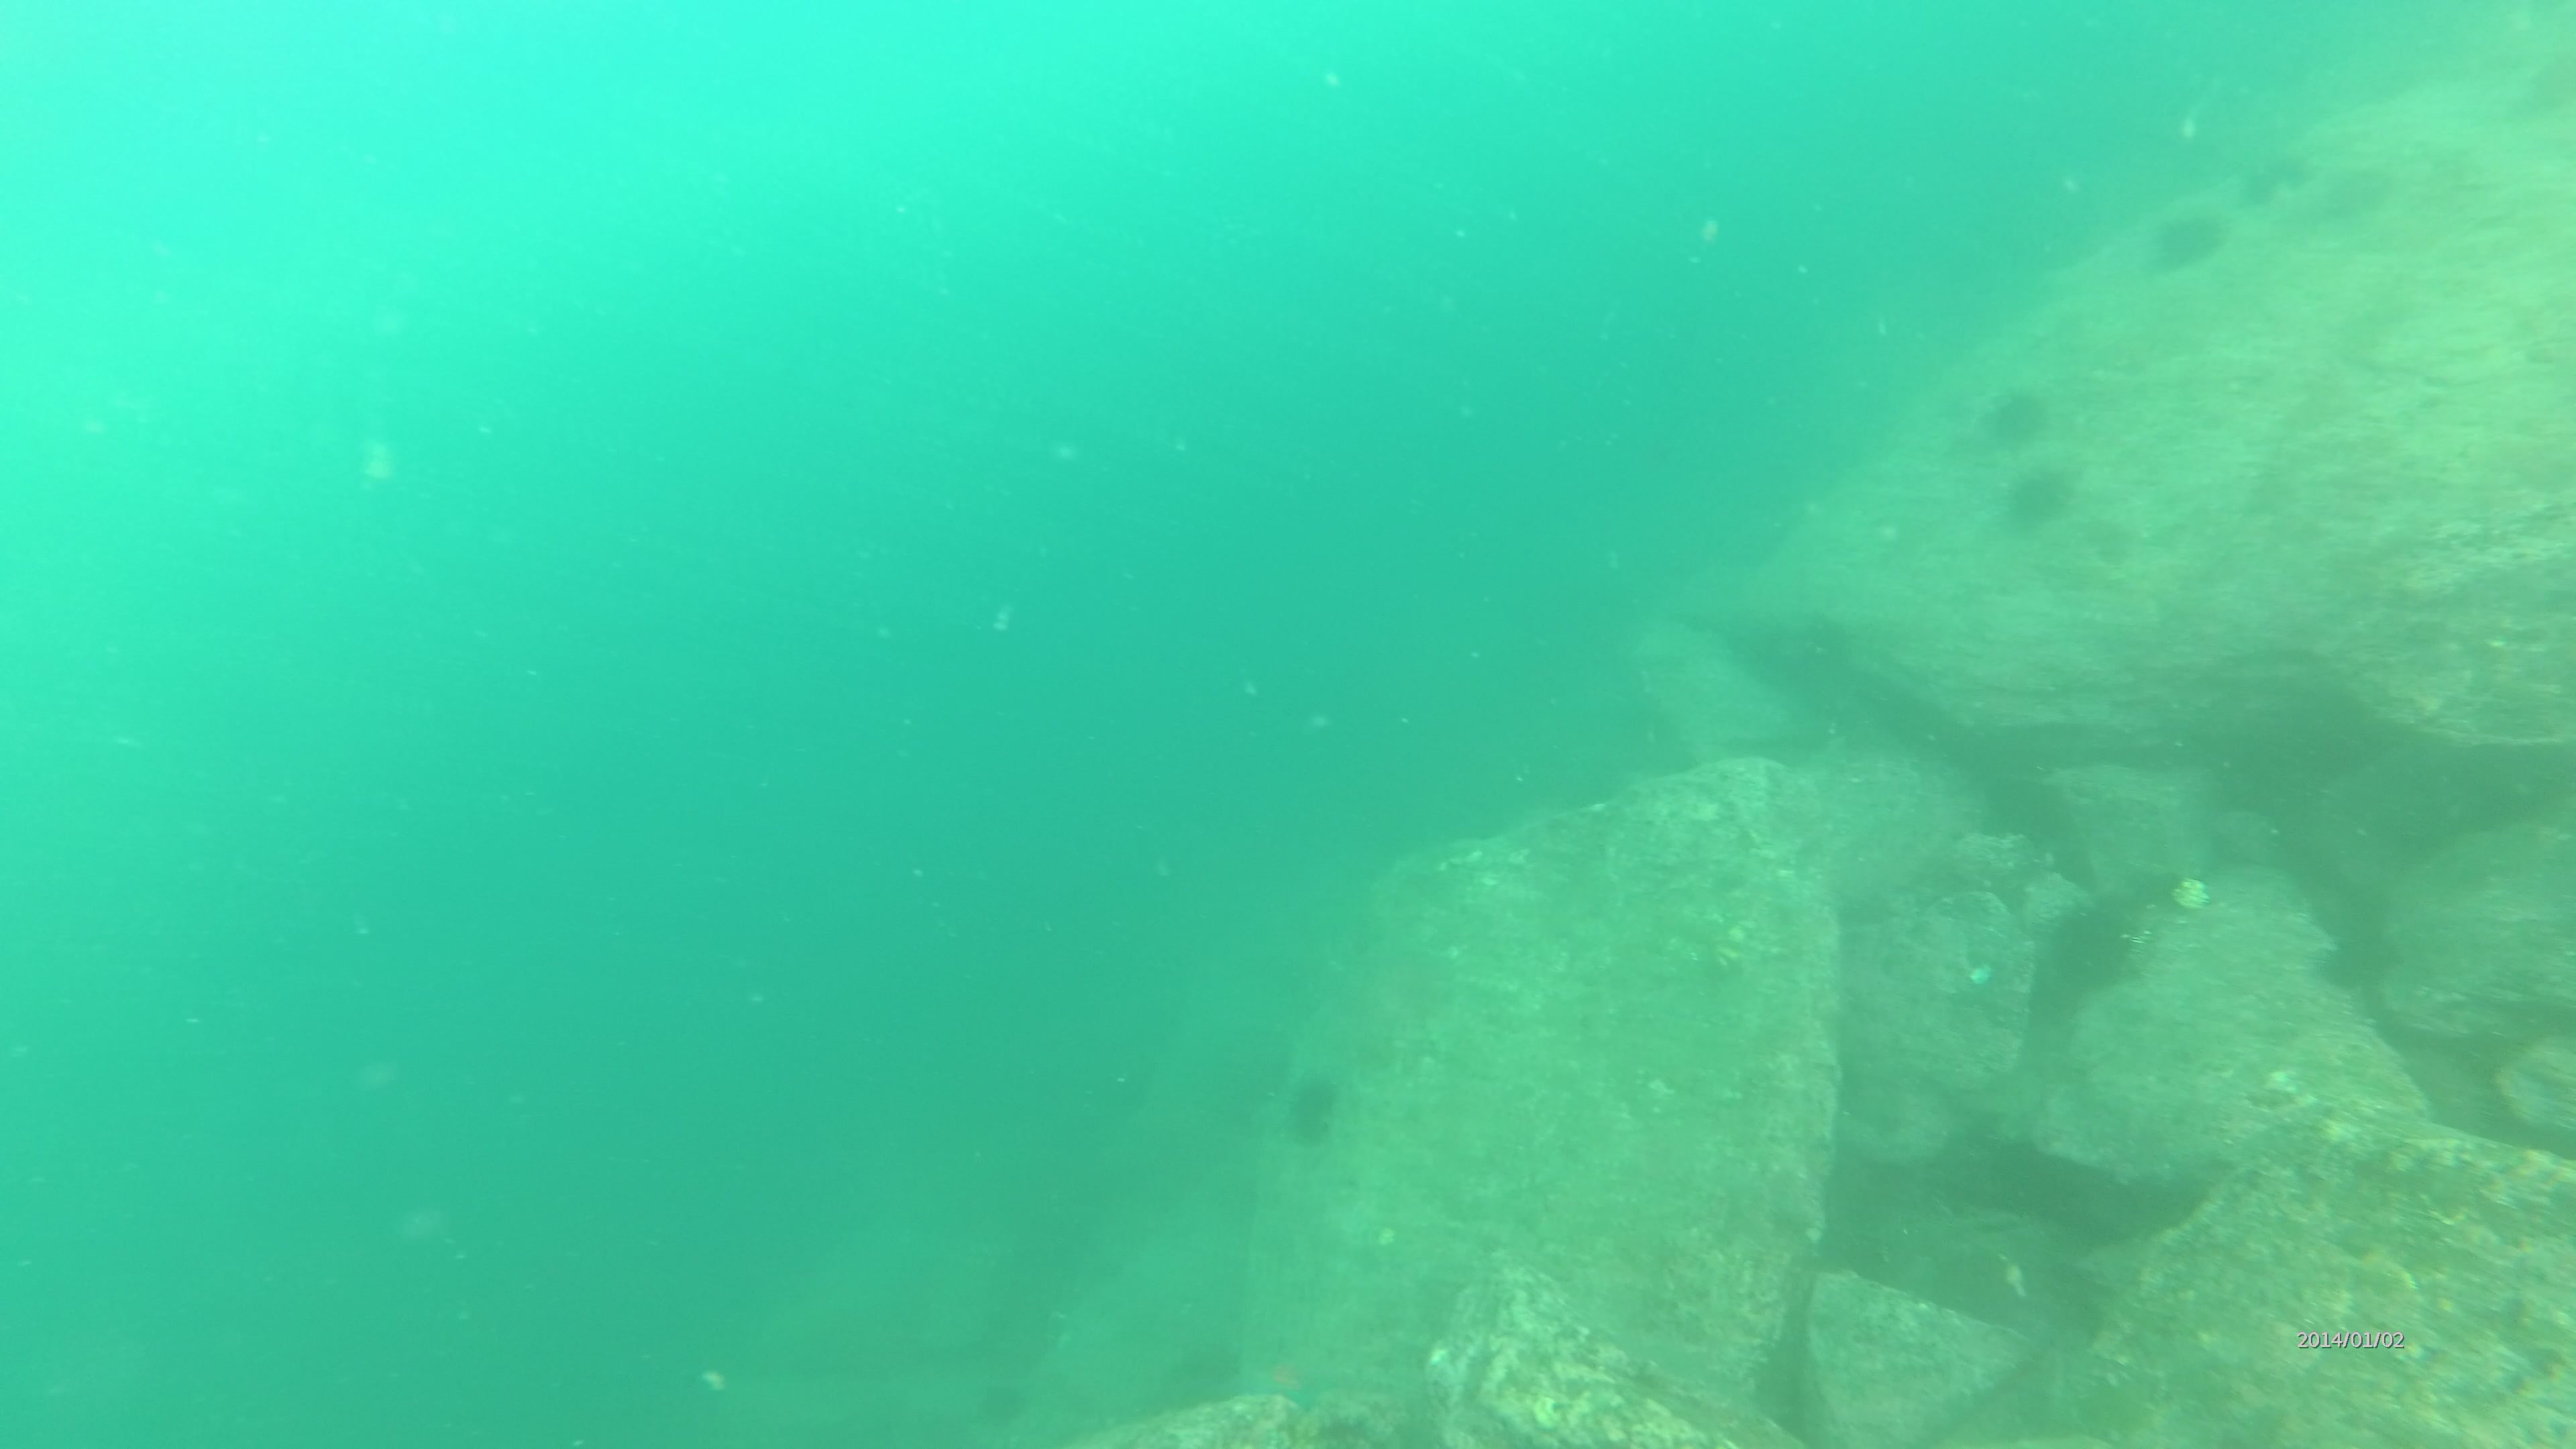echinus: (2054, 893, 2150, 993), (1999, 458, 2082, 534), (1973, 389, 2045, 458), (2235, 145, 2318, 205), (2150, 211, 2226, 272), (2311, 931, 2380, 996), (1284, 1077, 1341, 1154)
